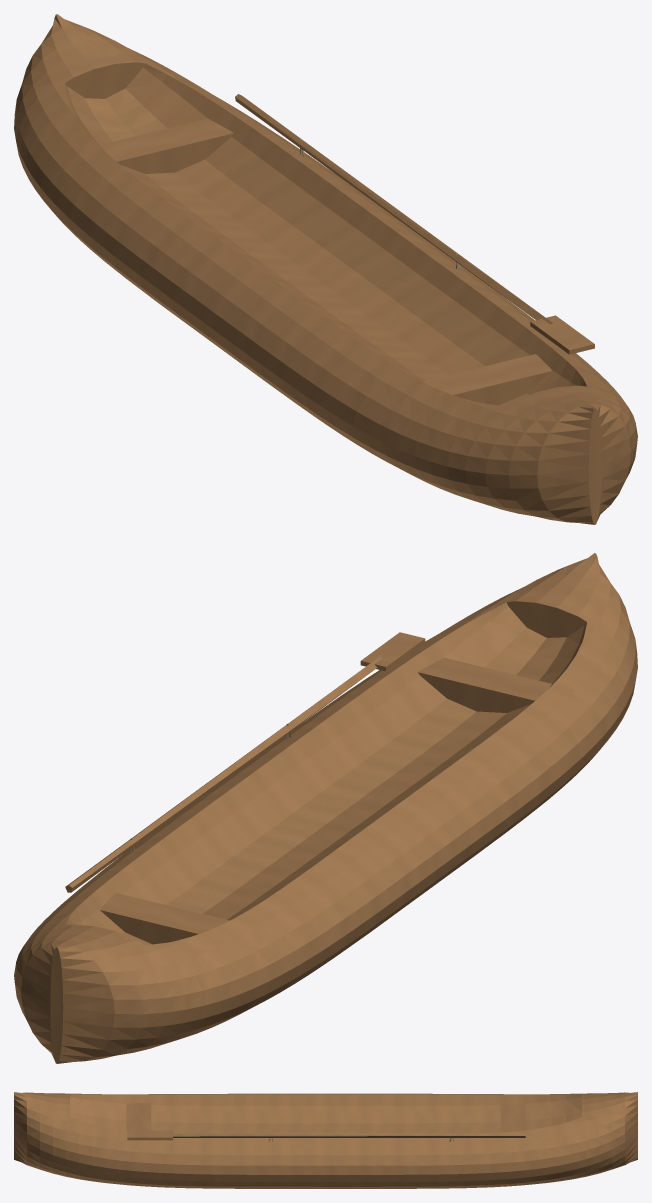
Rendered from ship_lod1.glb.
3 renders of one model, top to bottom at view 1: azimuth 30°, elevation 25°; view 2: azimuth 150°, elevation 25°; view 3: azimuth 270°, elevation 25°, orthographic. The views are drawn at different scales.
Visible parts, largest first — view 1: lod1_hollowed_log_line, lod1_paddle_shaft, lod1_paddle_blade; view 2: lod1_hollowed_log_line, lod1_paddle_shaft, lod1_paddle_blade; view 3: lod1_hollowed_log_line, lod1_paddle_shaft, lod1_paddle_blade.
Part boxes in pixels (x1=…): lod1_hollowed_log_line: x1=14, y1=14, x2=637, y2=524; lod1_paddle_shaft: x1=235, y1=94, x2=552, y2=324; lod1_paddle_blade: x1=530, y1=315, x2=594, y2=354; lod1_hollowed_log_line: x1=14, y1=553, x2=637, y2=1063; lod1_paddle_shaft: x1=65, y1=656, x2=381, y2=892; lod1_paddle_blade: x1=360, y1=632, x2=425, y2=671; lod1_hollowed_log_line: x1=14, y1=1092, x2=637, y2=1188; lod1_paddle_shaft: x1=163, y1=1133, x2=525, y2=1137; lod1_paddle_blade: x1=127, y1=1130, x2=172, y2=1140.
Size of the model in its own units: 1.4 by 0.8052 by 5.5.
Materials: 2 (2 with a texture image).
